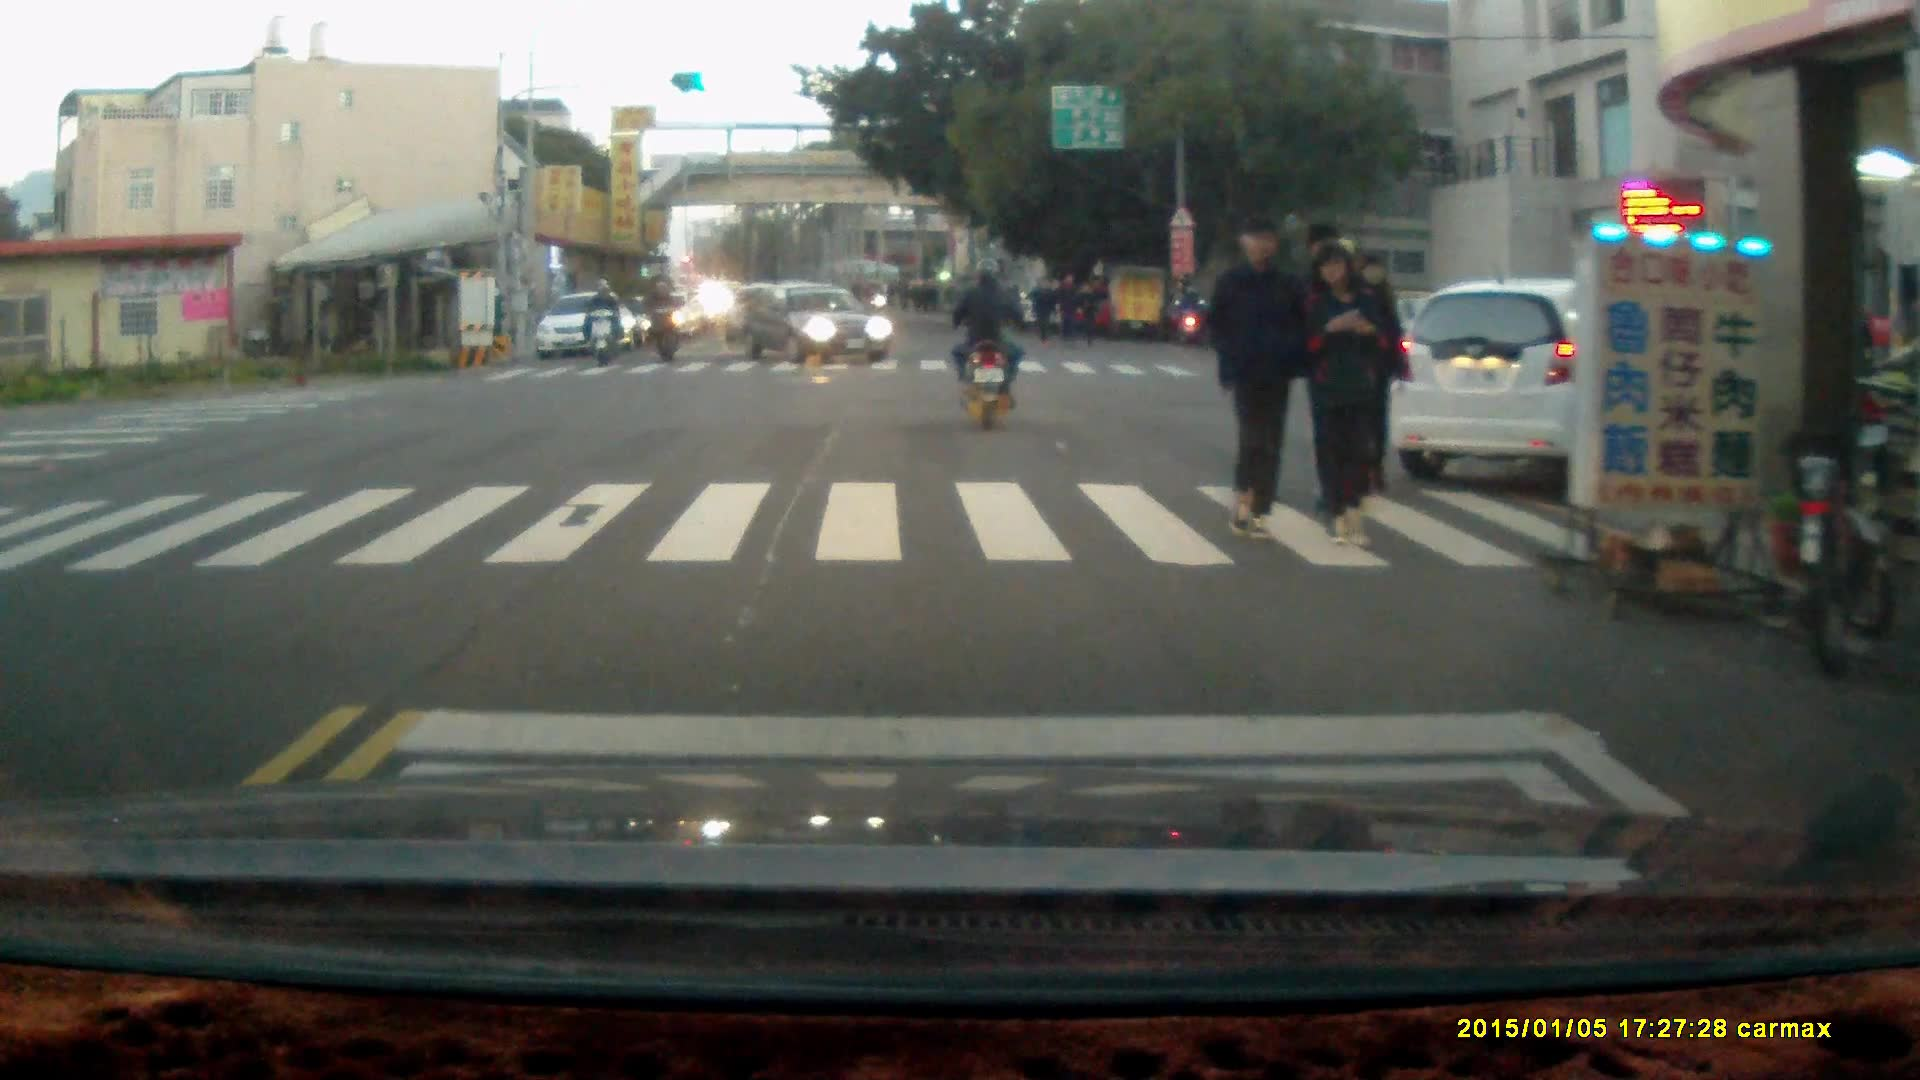pedestrian: (1207, 212, 1311, 540), (1299, 241, 1386, 548), (1053, 271, 1080, 349), (1073, 280, 1103, 350), (1028, 273, 1055, 344)
rider: (950, 254, 1020, 433), (643, 279, 685, 369), (583, 276, 622, 366), (1169, 286, 1209, 351)
vehicle: (1394, 279, 1837, 494), (736, 280, 894, 372), (537, 296, 638, 366)
